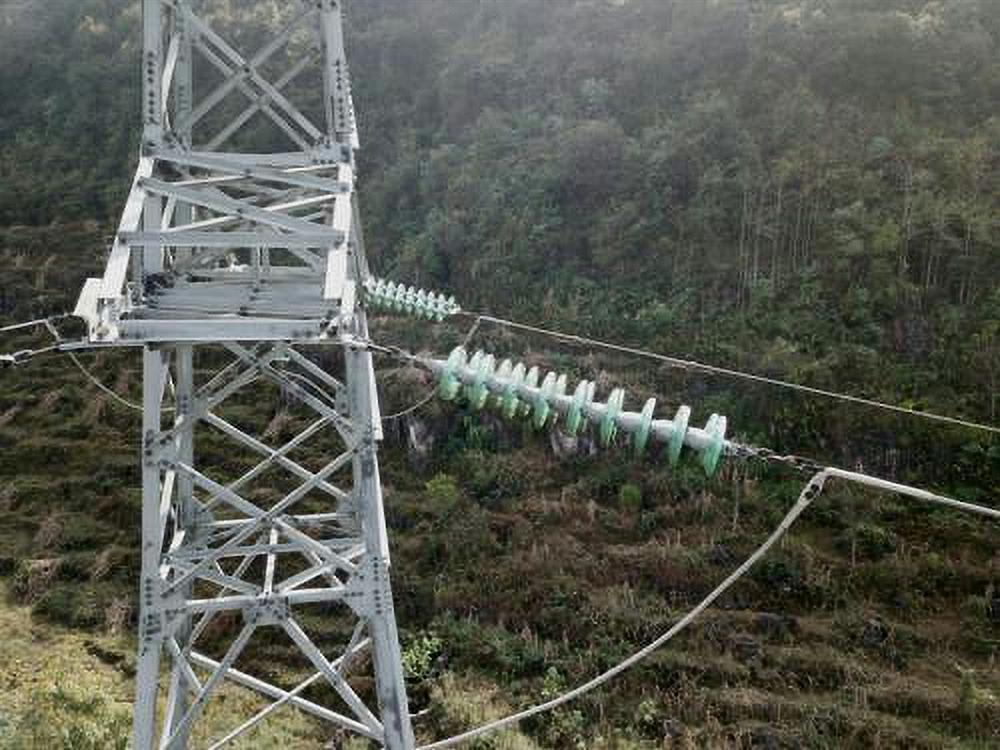insulator: (432, 340, 730, 481), (356, 270, 464, 328)
